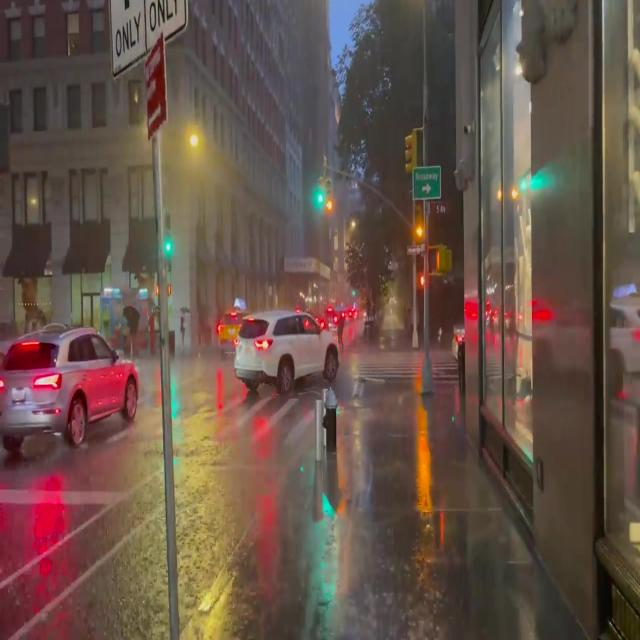Car: (1, 330, 136, 442), (232, 311, 337, 387)
